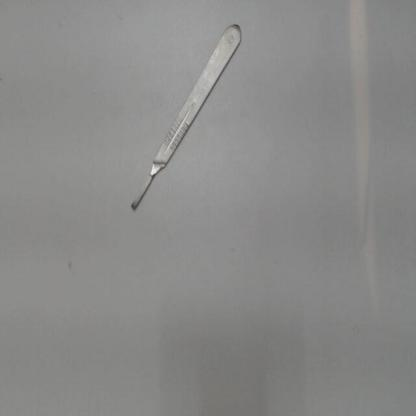No.4 BP Handle: (119, 16, 262, 226)
